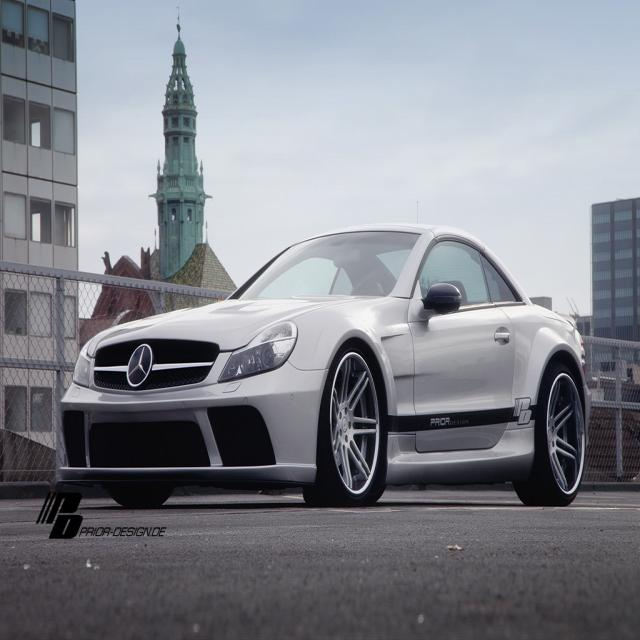car: (57, 201, 591, 503)
